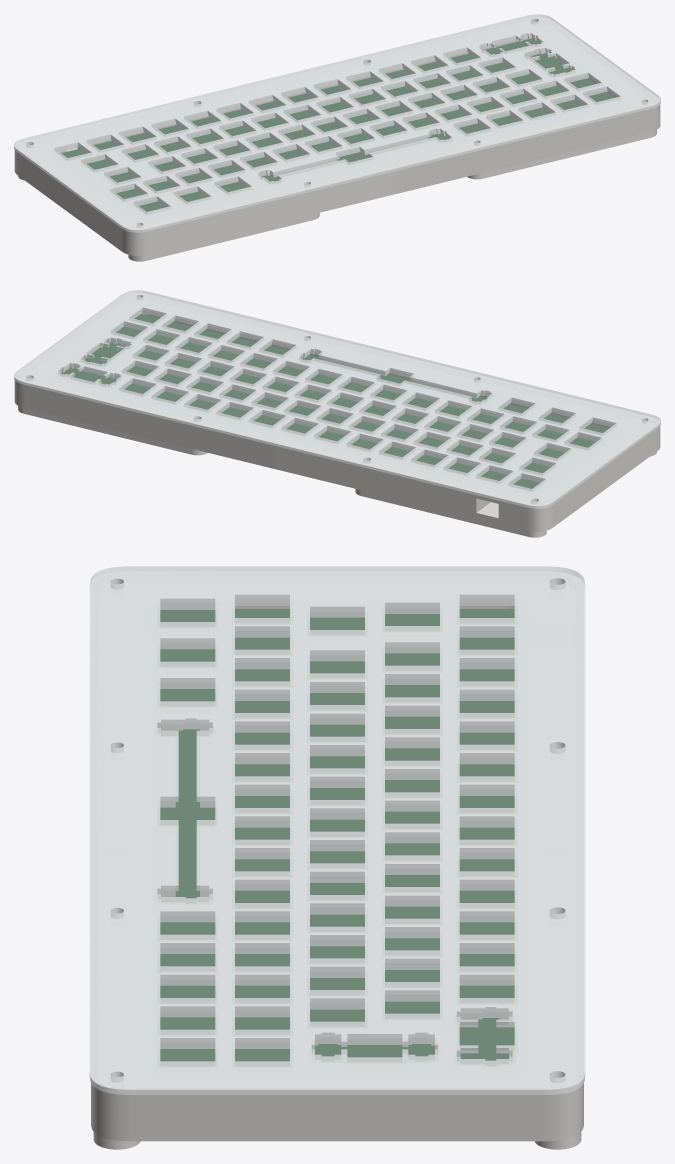
3 renders of one model, top to bottom at view 1: azimuth 30°, elevation 25°; view 2: azimuth 150°, elevation 25°; view 3: azimuth 270°, elevation 25°, orthographic. The views are drawn at different scales.
Visible parts, largest first — view 1: p0_top, p1_stiffener, p4_pcb, p2_frame_left, p3_frame_right, p5_foot_1, p7_foot_3; view 2: p0_top, p1_stiffener, p4_pcb, p2_frame_left, p3_frame_right, p6_foot_2, p8_foot_4; view 3: p0_top, p1_stiffener, p4_pcb, p3_frame_right, p2_frame_left.
Part boxes in pixels (bbox=[...]): p0_top: bbox=[14, 14, 660, 232]; p1_stiffener: bbox=[19, 20, 653, 229]; p4_pcb: bbox=[61, 38, 614, 211]; p2_frame_left: bbox=[14, 80, 398, 255]; p3_frame_right: bbox=[277, 17, 660, 193]; p5_foot_1: bbox=[128, 213, 319, 261]; p7_foot_3: bbox=[467, 130, 656, 179]; p0_top: bbox=[14, 290, 660, 508]; p1_stiffener: bbox=[20, 295, 651, 505]; p4_pcb: bbox=[61, 314, 609, 488]; p2_frame_left: bbox=[276, 356, 660, 531]; p3_frame_right: bbox=[14, 293, 397, 469]; p6_foot_2: bbox=[355, 489, 546, 537]; p8_foot_4: bbox=[18, 406, 207, 455]; p0_top: bbox=[89, 566, 585, 1094]; p1_stiffener: bbox=[100, 576, 574, 1090]; p4_pcb: bbox=[160, 609, 514, 1061]; p3_frame_right: bbox=[91, 833, 583, 1141]; p2_frame_left: bbox=[91, 572, 583, 832].
Bounding box in the file's own units: 315 × 18.3 × 126.
